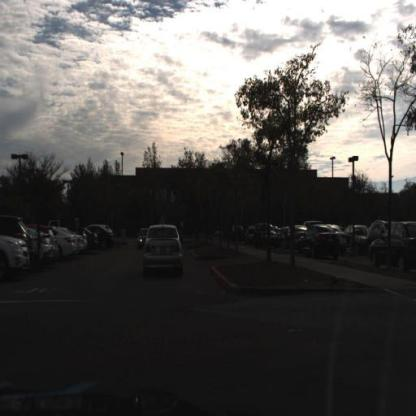car: (140, 217, 189, 283), (369, 220, 416, 270), (2, 215, 37, 279), (13, 225, 57, 265), (300, 224, 342, 263), (54, 228, 76, 264), (251, 223, 281, 247), (281, 226, 304, 253), (100, 224, 117, 252), (345, 226, 369, 243), (88, 228, 100, 254), (74, 231, 85, 258), (138, 227, 148, 254), (79, 230, 87, 255)
